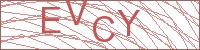C: (92, 14, 116, 43)
E: (39, 5, 63, 34)
V: (65, 1, 89, 26)
Y: (115, 9, 141, 37)
